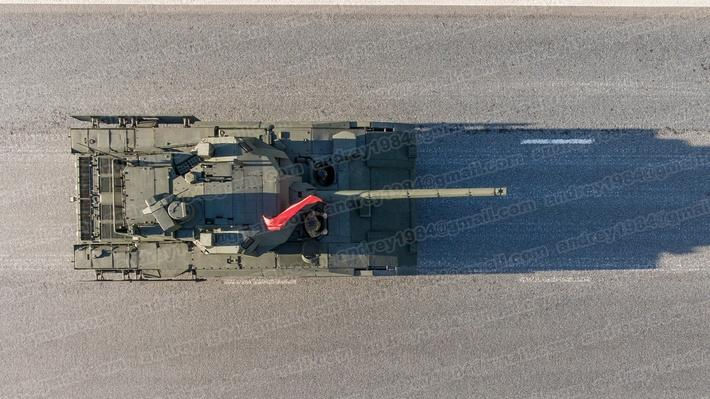tank: (62, 112, 513, 288)
